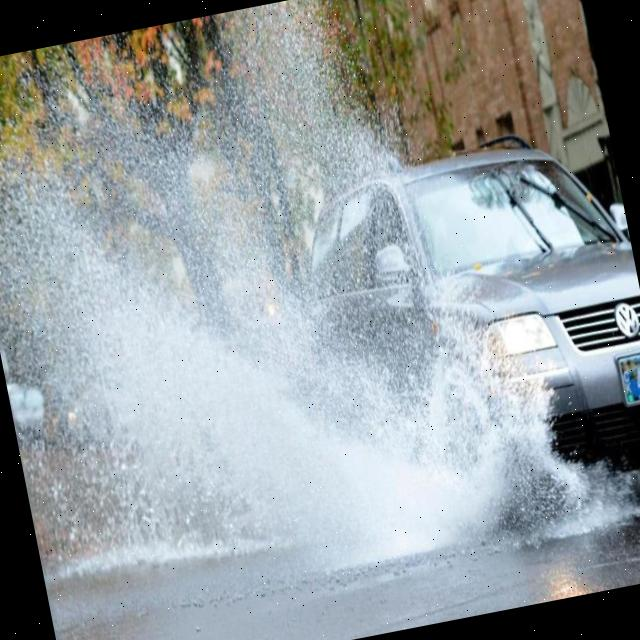car: (276, 122, 640, 518)
